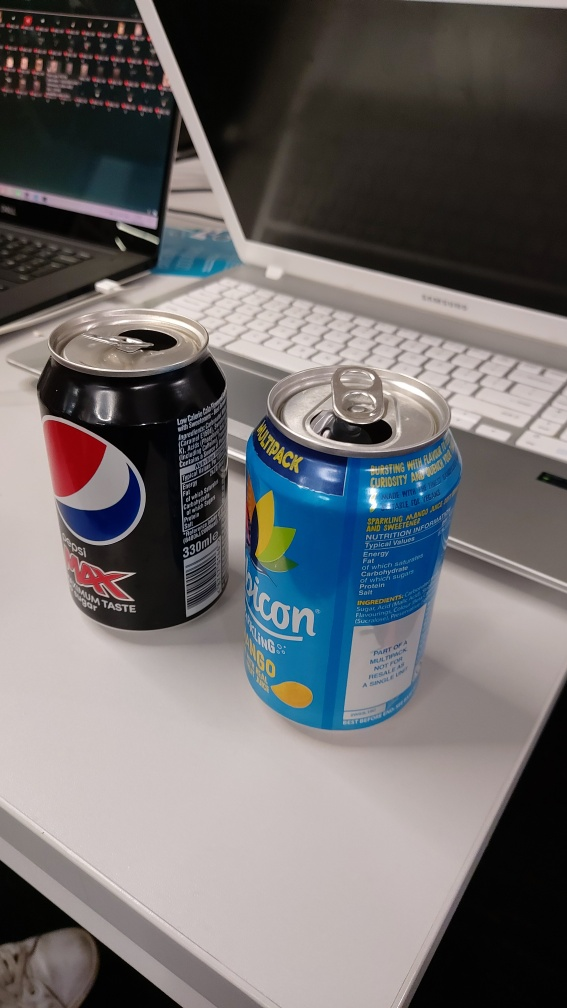can_blue: (225, 348, 473, 754)
